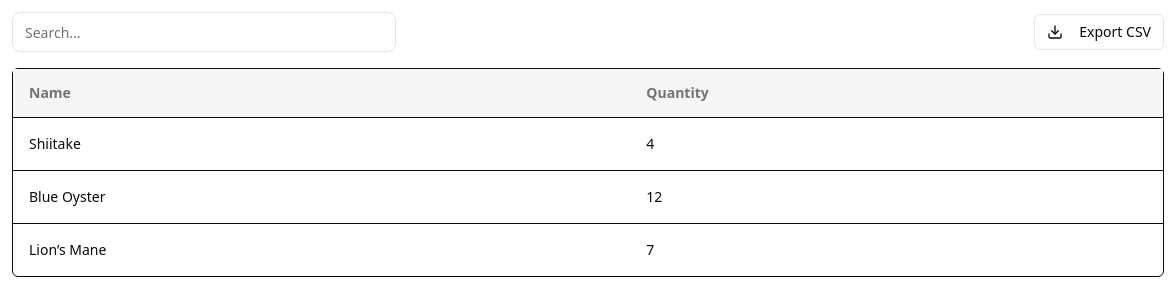
Test: DataTable interactions › filters rows and reports an empty result
In the field with placeholder "Search...": (204, 32) [12,12,396,52], type "blue"
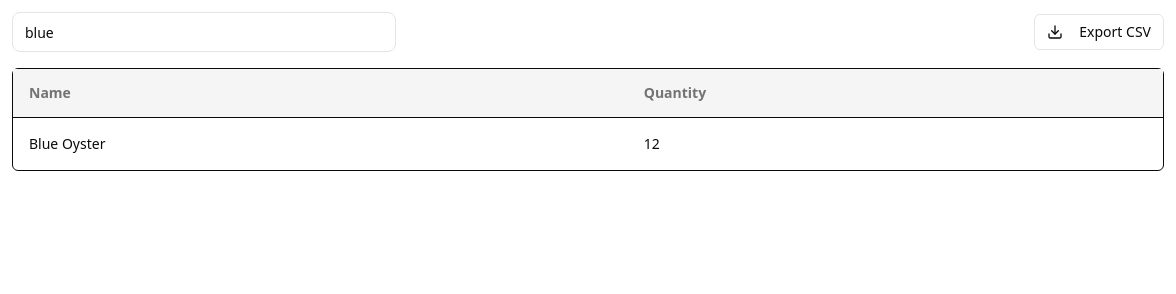
expect the text "Blue Oyster" is shown: met, box [13,117,628,170]
expect the text "Shiitake" is gone: met
Replace the text in the field with placeholder "Search..." with "missing": (204, 32) [12,12,396,52]
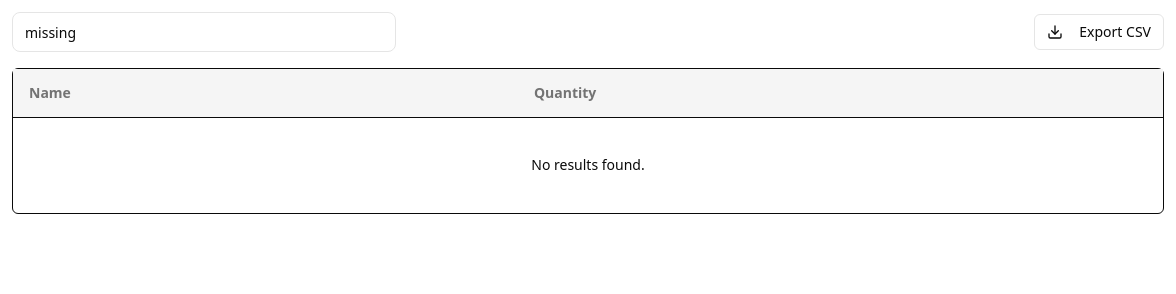
expect the text "No results found." is shown: met, box [13,117,1163,213]
